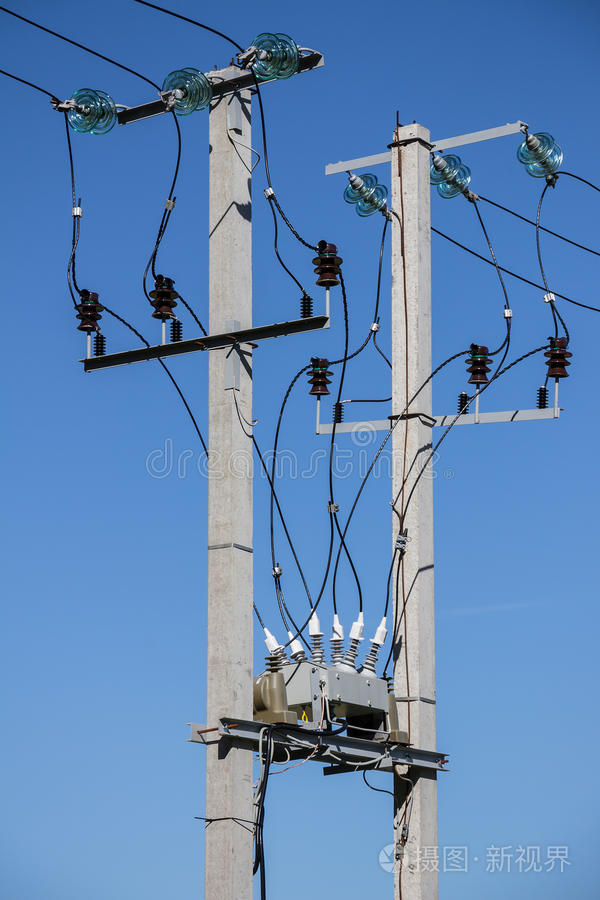insulator: (249, 32, 301, 82), (67, 88, 116, 137), (164, 66, 211, 117), (517, 131, 565, 178), (342, 173, 389, 215), (430, 154, 471, 197), (308, 250, 349, 287), (543, 347, 574, 378), (148, 289, 180, 319), (73, 299, 106, 328), (307, 364, 336, 396), (463, 356, 492, 386)
